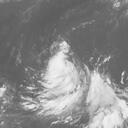cyclone: (38, 40, 102, 111)
